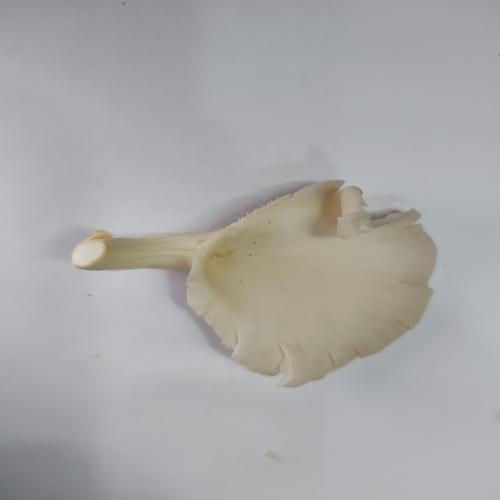Oyster Mushroom: (71, 178, 439, 388)
